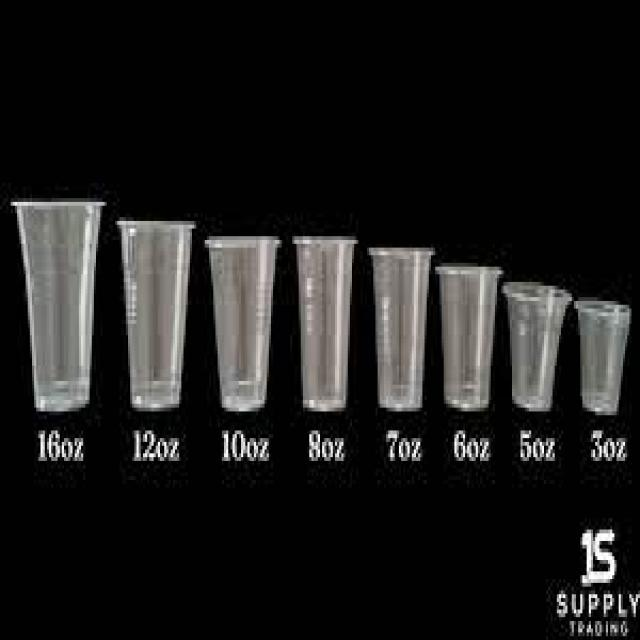plastic: (14, 201, 104, 412), (119, 221, 195, 410), (207, 239, 280, 410), (294, 237, 356, 410), (369, 248, 434, 410), (438, 266, 502, 410), (504, 283, 571, 410), (576, 301, 631, 414)
